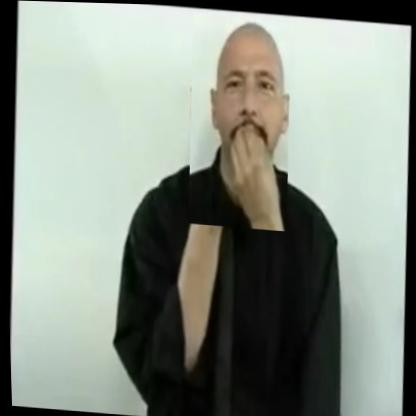Food: (182, 10, 295, 230)
